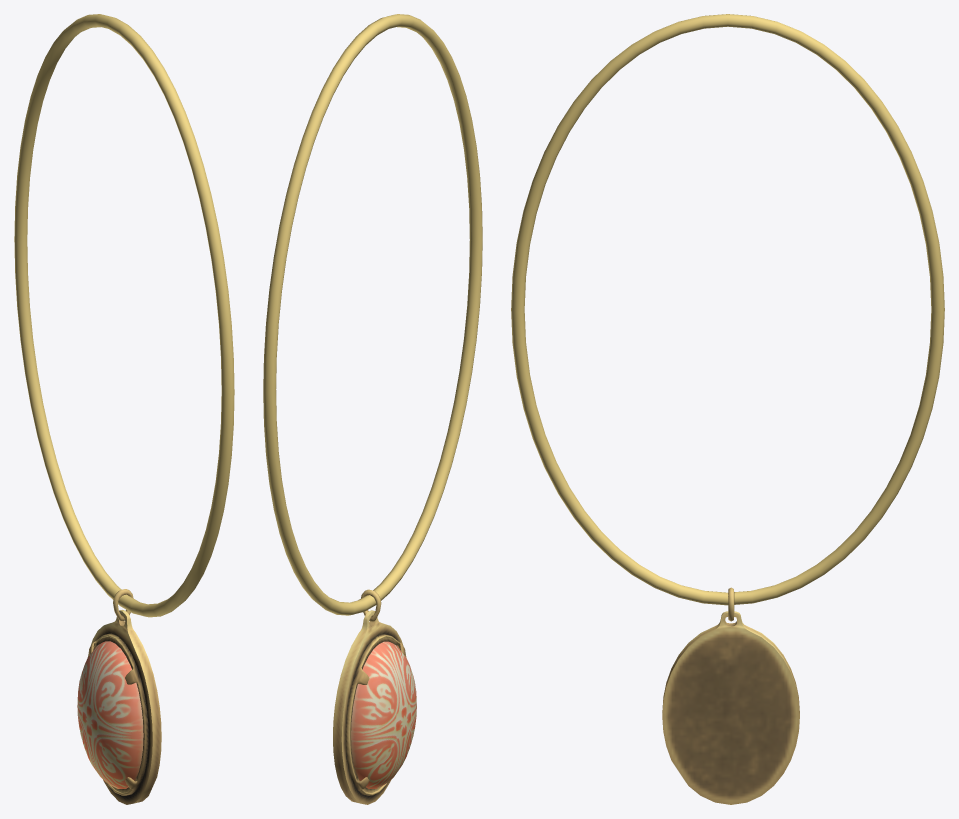
The model's file is SM_Necklace_A_Gold.fbx.
3 views of the same model, side by side, from view 1: azimuth 30°, elevation 25°; view 2: azimuth 150°, elevation 25°; view 3: azimuth 270°, elevation 25° (orthographic).
Parts seen in each view (by area): view 1: SM_Necklace_A_Gold_LOD0; view 2: SM_Necklace_A_Gold_LOD0; view 3: SM_Necklace_A_Gold_LOD0.
Part boxes in pixels (x1=…): SM_Necklace_A_Gold_LOD0: x1=14, y1=14, x2=234, y2=804; SM_Necklace_A_Gold_LOD0: x1=263, y1=14, x2=482, y2=804; SM_Necklace_A_Gold_LOD0: x1=511, y1=14, x2=944, y2=804.
Bounding box in the file's own units: 1.66 × 13.88 × 27.83.
Materials: 2 (2 with a texture image).
